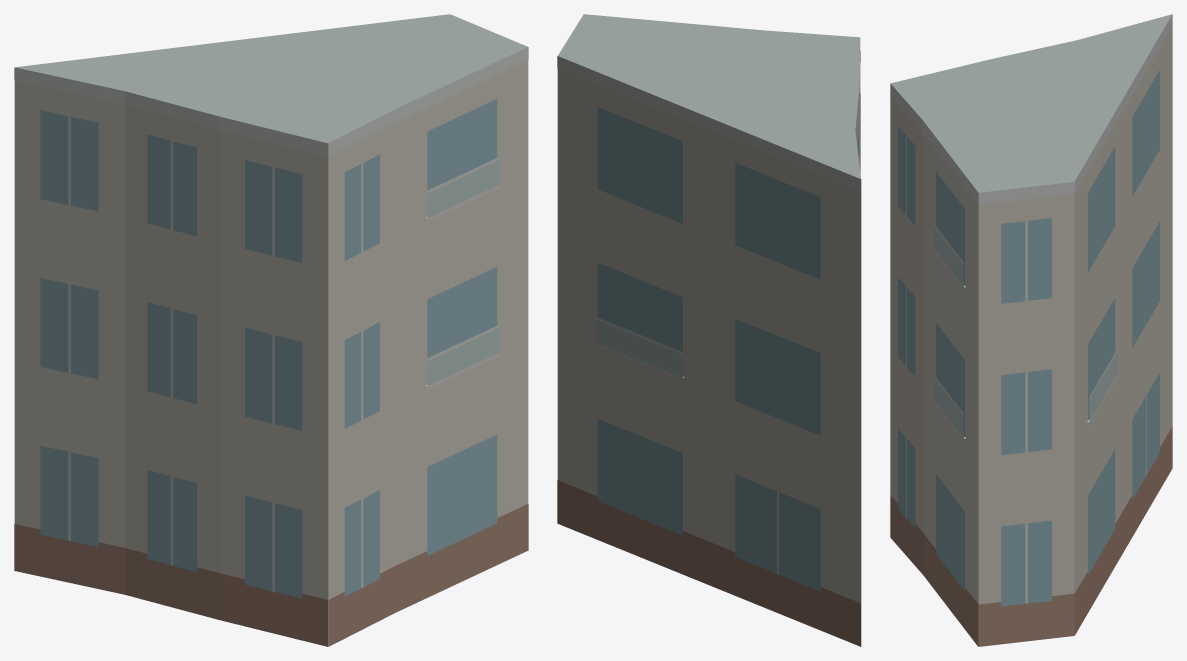
File: survey-upis-32460054.glb
3 renders of one model, left to right at view 1: azimuth 30°, elevation 25°; view 2: azimuth 150°, elevation 25°; view 3: azimuth 270°, elevation 25°, orthographic. The views are drawn at different scales.
Visible parts, largest first — view 1: survey-upis-32460054.tmp; view 2: survey-upis-32460054.tmp; view 3: survey-upis-32460054.tmp.
Boxes of the visible parts, x1,y1,x2,y2 form: survey-upis-32460054.tmp: [14, 14, 528, 646]; survey-upis-32460054.tmp: [557, 14, 861, 646]; survey-upis-32460054.tmp: [890, 14, 1172, 646].
Size of the model in its own units: 7.74 by 9.15 by 5.16.
